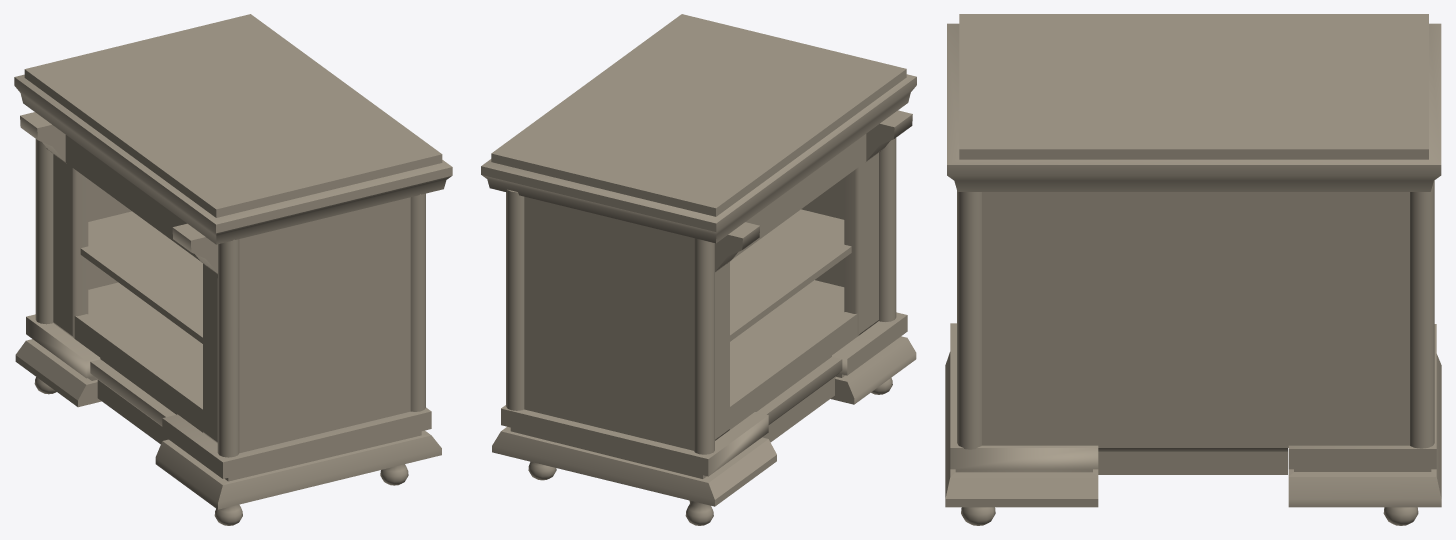
Rendered from Cupboard_02_Lod0.fbx.
3 views of the same model, side by side, from view 1: azimuth 30°, elevation 25°; view 2: azimuth 150°, elevation 25°; view 3: azimuth 270°, elevation 25° (orthographic). The views are drawn at different scales.
Visible parts, largest first — view 1: Cupboard_02_Lod0; view 2: Cupboard_02_Lod0; view 3: Cupboard_02_Lod0.
Boxes of the visible parts, left/top/right/bottom form: Cupboard_02_Lod0: left=14, top=14, right=452, bottom=525; Cupboard_02_Lod0: left=481, top=14, right=916, bottom=525; Cupboard_02_Lod0: left=945, top=14, right=1441, bottom=525.
Bounding box in the file's own units: 69.85 × 87.75 × 99.13.
